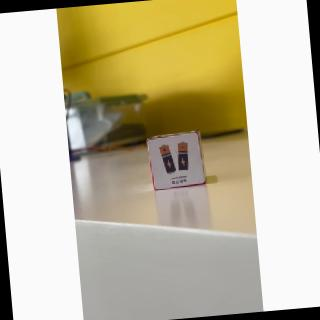Used_Battery: (148, 134, 207, 191)
